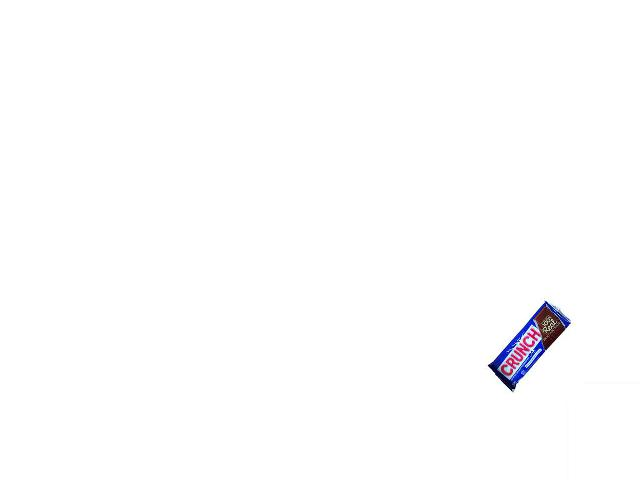chocolate: (487, 298, 572, 393)
